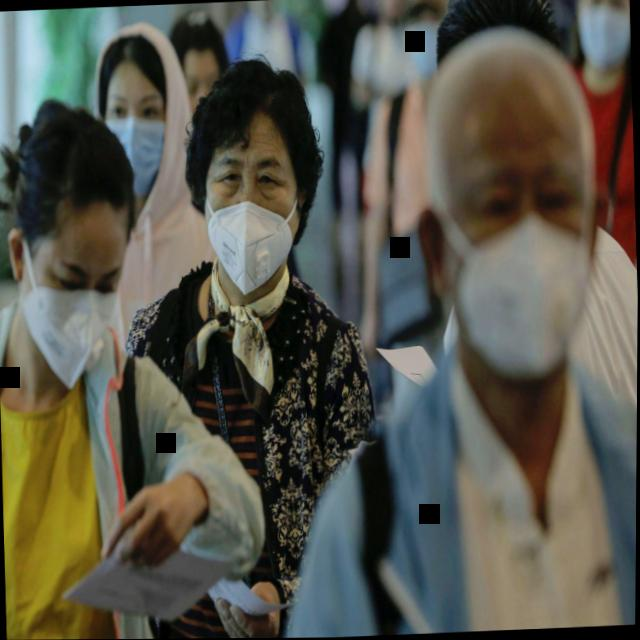Mask: (426, 96, 603, 392), (8, 189, 129, 391), (192, 112, 308, 298), (89, 40, 175, 205), (574, 0, 631, 73)
